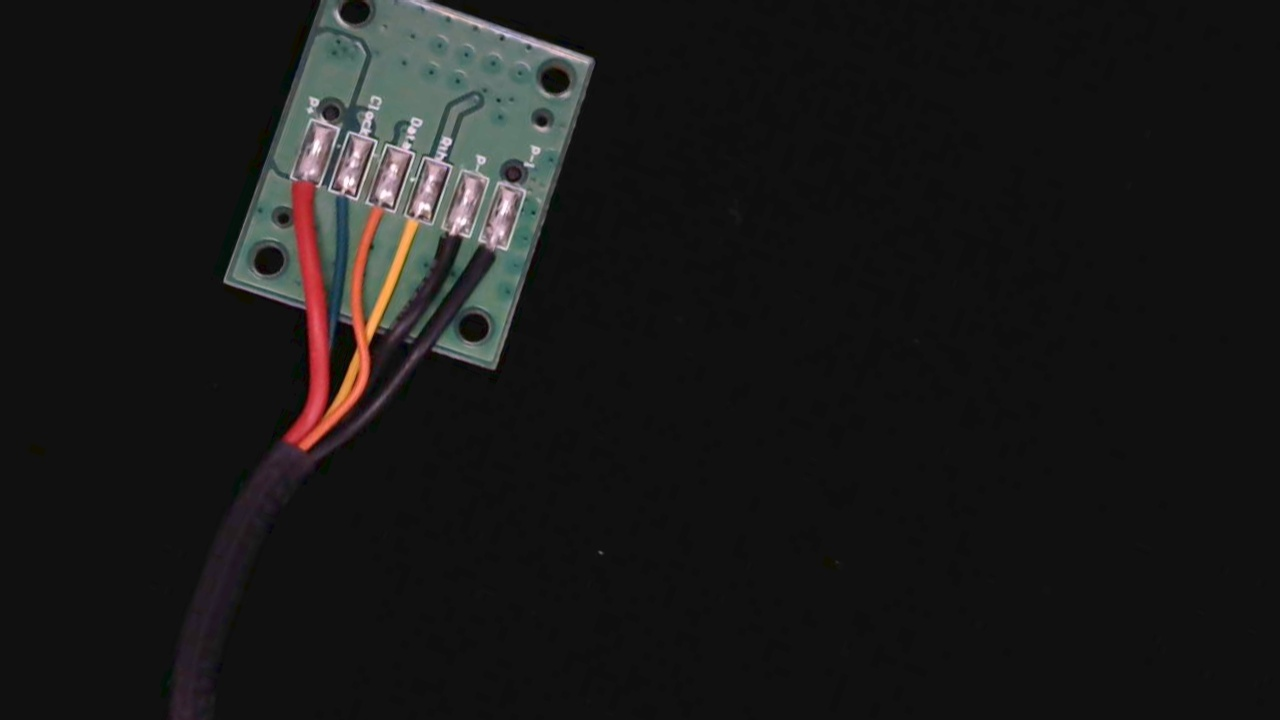Black: (424, 211, 472, 283)
Black1: (463, 223, 511, 288)
Green: (313, 171, 361, 239)
Orange: (350, 186, 398, 252)
Red: (272, 158, 322, 227)
Yellow: (384, 196, 436, 271)
